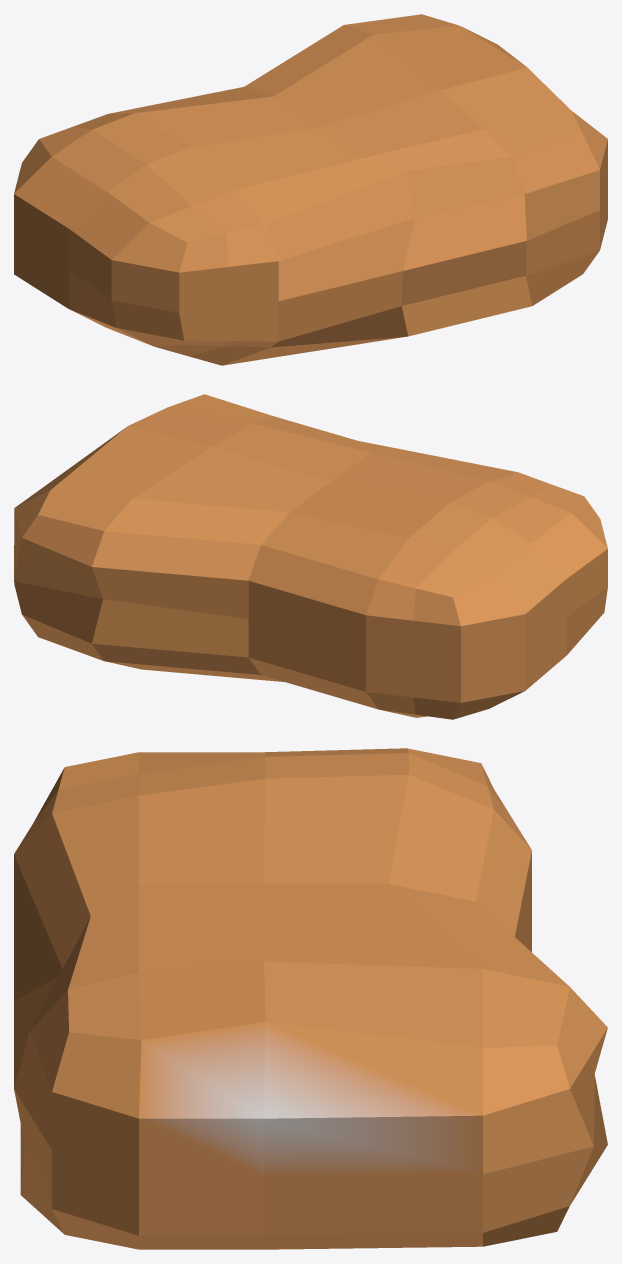
File: Rock_Desert02.fbx
The picture shows the model from 3 angles, top to bottom: view 1: azimuth 30°, elevation 25°; view 2: azimuth 150°, elevation 25°; view 3: azimuth 270°, elevation 25°; orthographic projection. The views are drawn at different scales.
Parts seen in each view (by area): view 1: Rock_Desert02_LOD0; view 2: Rock_Desert02_LOD0; view 3: Rock_Desert02_LOD0.
Part boxes in pixels (x1,y1,x2,y2): Rock_Desert02_LOD0: [14, 14, 607, 365]; Rock_Desert02_LOD0: [14, 394, 607, 719]; Rock_Desert02_LOD0: [14, 748, 607, 1249].
Size of what is drawn, in the model's own units: 105 by 37.88 by 73.1.
